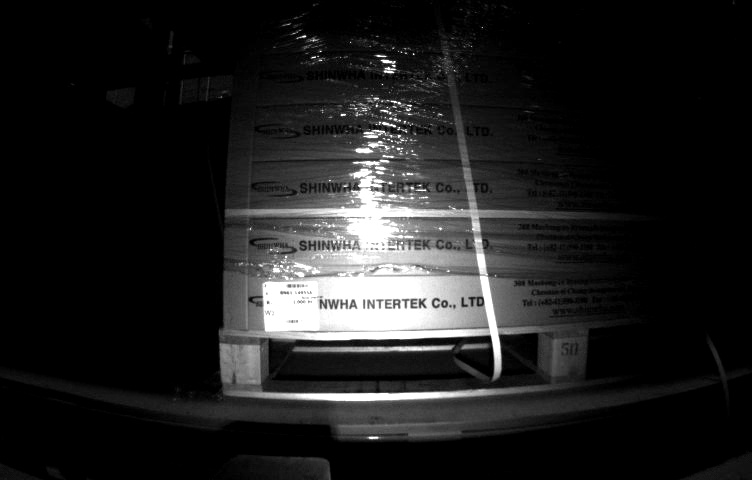True Barcode: (262, 279, 320, 333)
